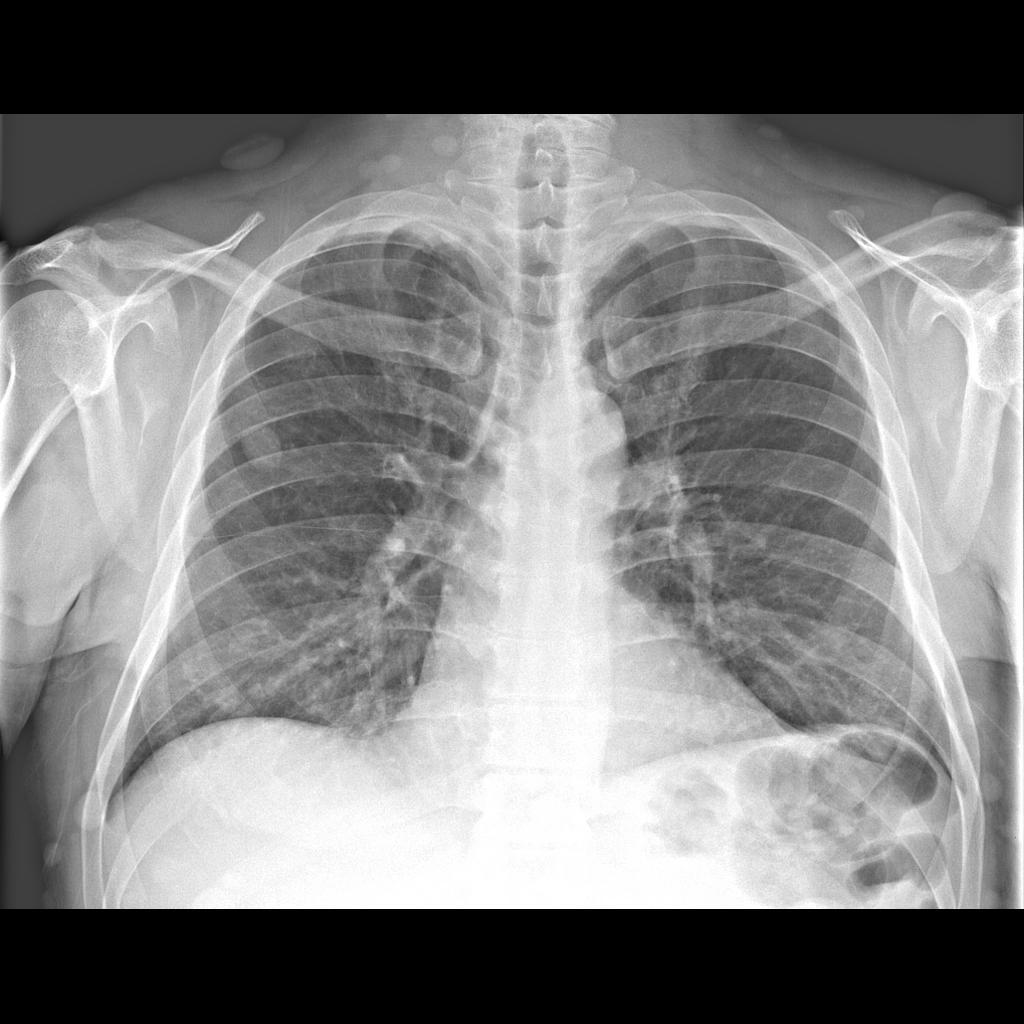Nodule: (236, 418, 288, 484)
